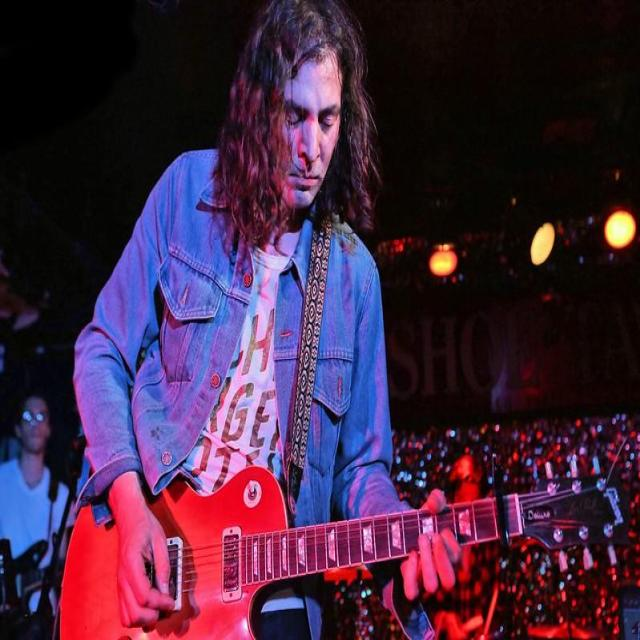guitar: (61, 466, 499, 639)
